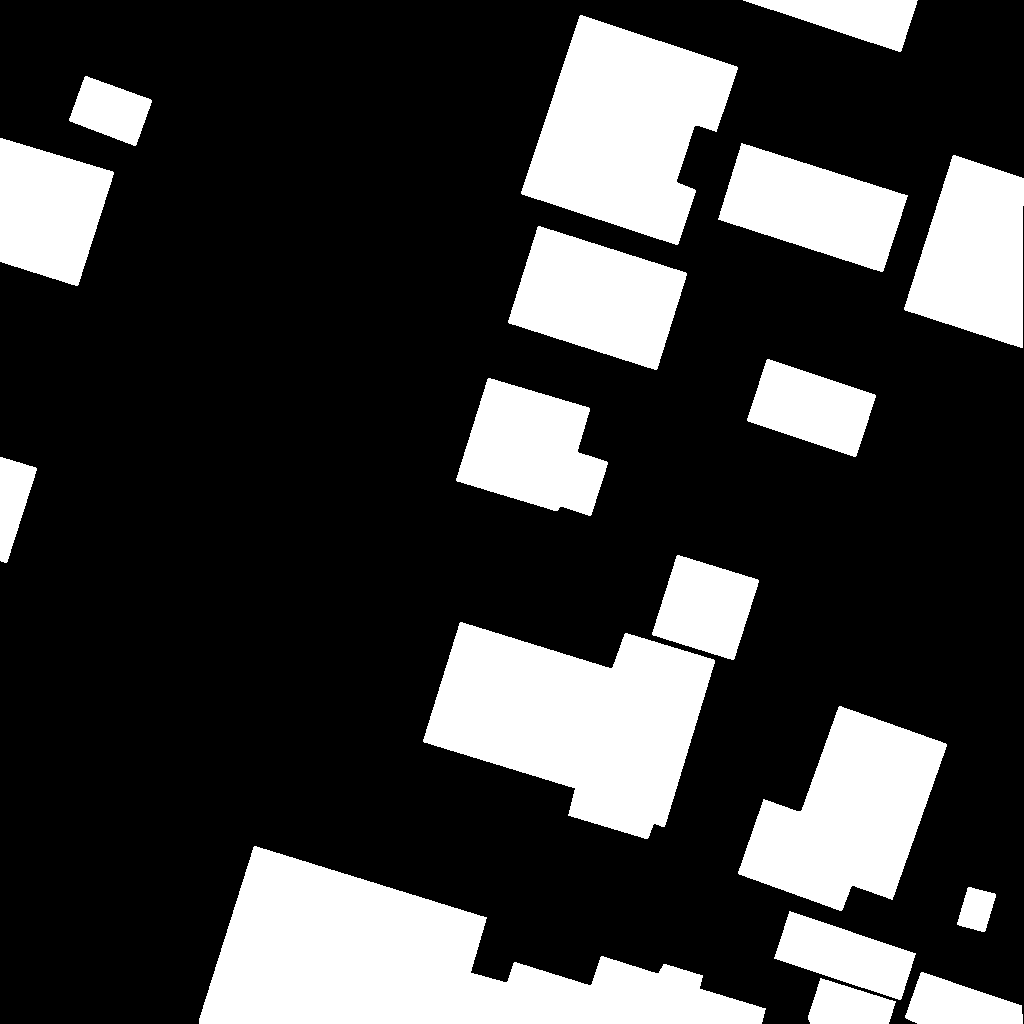building: (199, 846, 767, 1024), (423, 622, 716, 840), (521, 15, 739, 246), (738, 706, 948, 912), (508, 226, 688, 371), (718, 143, 909, 273), (904, 155, 1024, 349), (456, 378, 609, 517), (0, 138, 115, 287), (774, 911, 917, 1001), (747, 359, 877, 458), (652, 555, 760, 661), (742, 0, 919, 53), (905, 972, 1024, 1024), (69, 76, 153, 147), (808, 978, 897, 1024), (0, 457, 38, 564), (957, 887, 997, 933)
